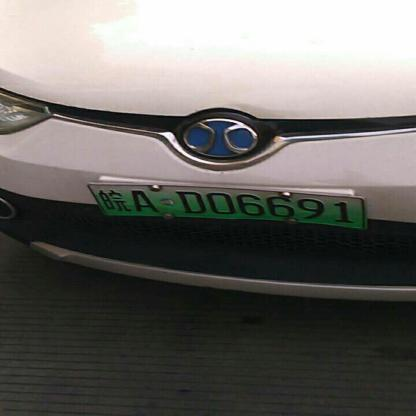lp: (86, 181, 368, 228)
